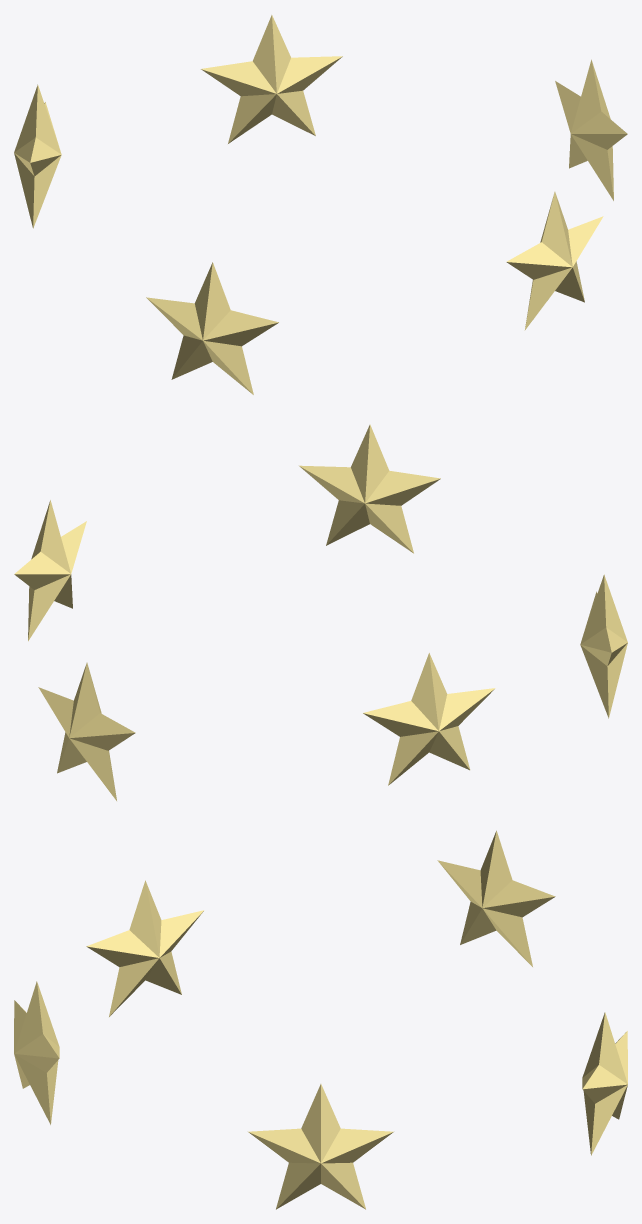
Rendered from DizzyStars.fbx.
3 views of the same model, one above another, from view 1: azimuth 30°, elevation 25°; view 2: azimuth 150°, elevation 25°; view 3: azimuth 270°, elevation 25° (orthographic).
Visible parts, largest first — view 1: DizzyStars; view 2: DizzyStars; view 3: DizzyStars.
Part boxes in pixels (x1,y1,x2,y2): DizzyStars: (14, 15, 627, 394); DizzyStars: (14, 424, 627, 800); DizzyStars: (14, 830, 627, 1209).
Bounding box in the file's own units: 1.26 × 0.4036 × 1.27.
